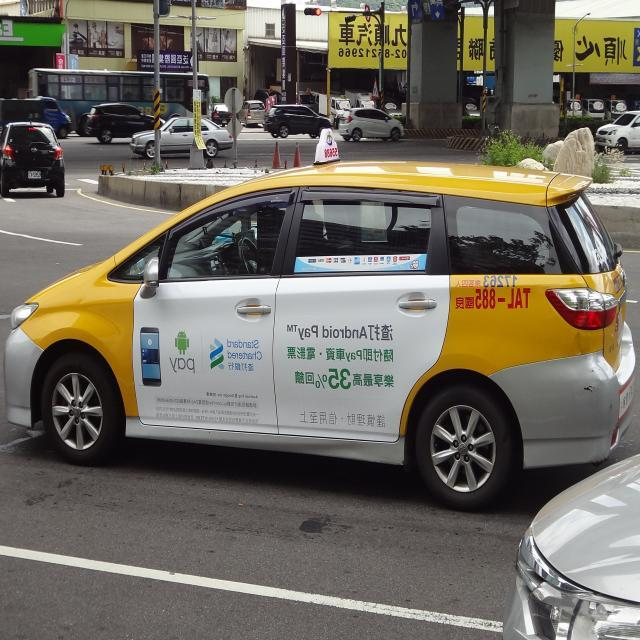taxi: (9, 102, 632, 526)
